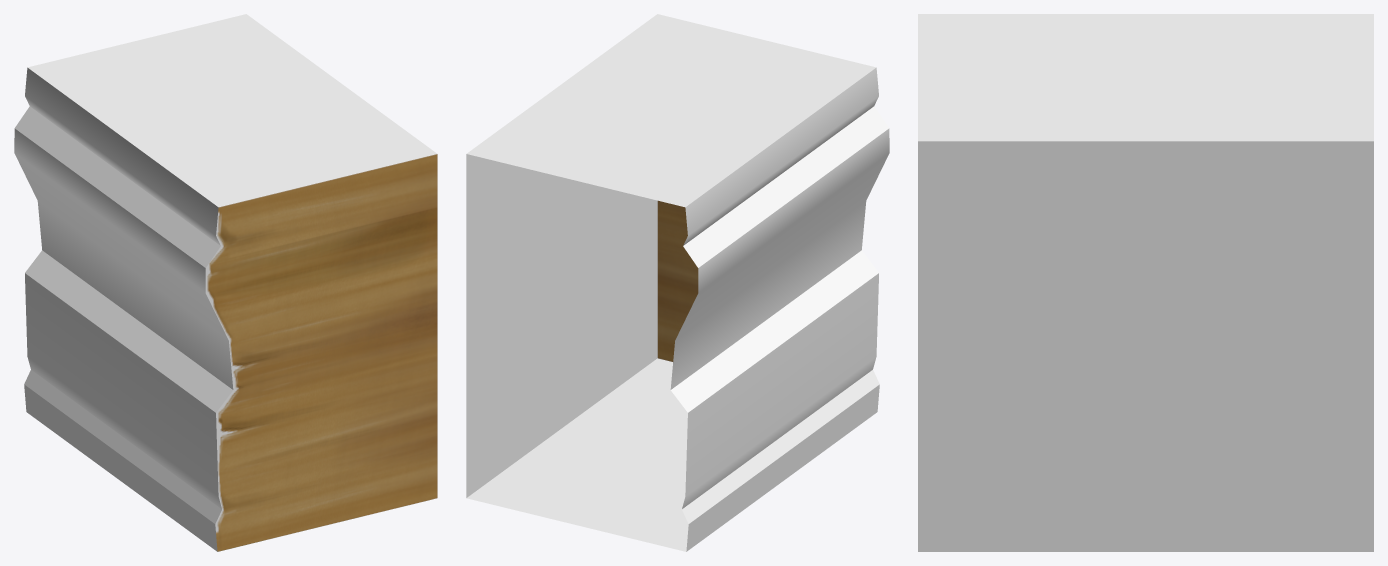
The model's file is Roca_01.fbx.
3 views of the same model, side by side, from view 1: azimuth 30°, elevation 25°; view 2: azimuth 150°, elevation 25°; view 3: azimuth 270°, elevation 25° (orthographic). The views are drawn at different scales.
Parts seen in each view (by area): view 1: Roca_01; view 2: Roca_01; view 3: Roca_01.
Part boxes in pixels (x1=…): Roca_01: x1=14, y1=14, x2=437, y2=551; Roca_01: x1=466, y1=14, x2=889, y2=551; Roca_01: x1=918, y1=14, x2=1373, y2=551.
Size of the model in its own units: 5.49 by 7.78 by 7.83.
